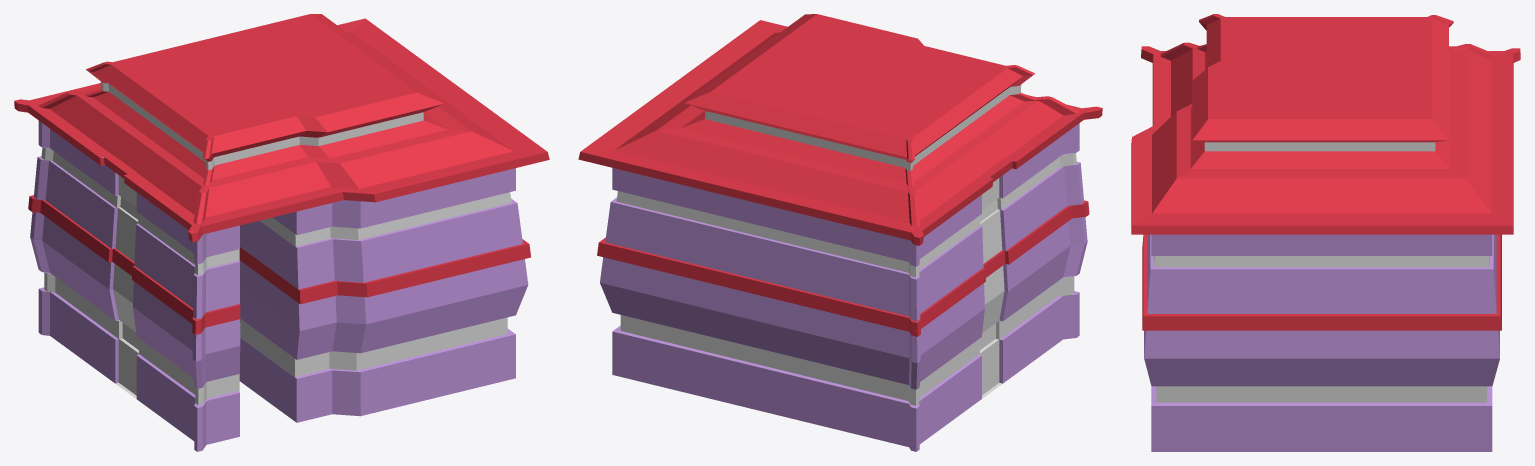
The model's file is FBX_LC_sElevatorBuilding.fbx.
3 views of the same model, side by side, from view 1: azimuth 30°, elevation 25°; view 2: azimuth 150°, elevation 25°; view 3: azimuth 270°, elevation 25° (orthographic). The views are drawn at different scales.
Visible parts, largest first — view 1: FBX_LC_sElevatorBuilding; view 2: FBX_LC_sElevatorBuilding; view 3: FBX_LC_sElevatorBuilding.
Part boxes in pixels (<box>): FBX_LC_sElevatorBuilding: <box>14,14,549,451</box>; FBX_LC_sElevatorBuilding: <box>578,14,1102,451</box>; FBX_LC_sElevatorBuilding: <box>1131,14,1520,451</box>.
Size of the model in its own units: 2620 by 2010 by 2395.
